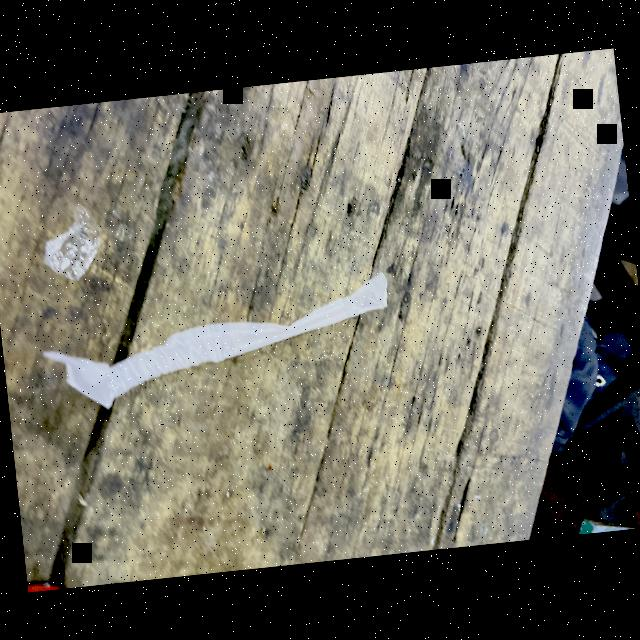scrap_plastic: (36, 269, 405, 412), (43, 222, 106, 286)
